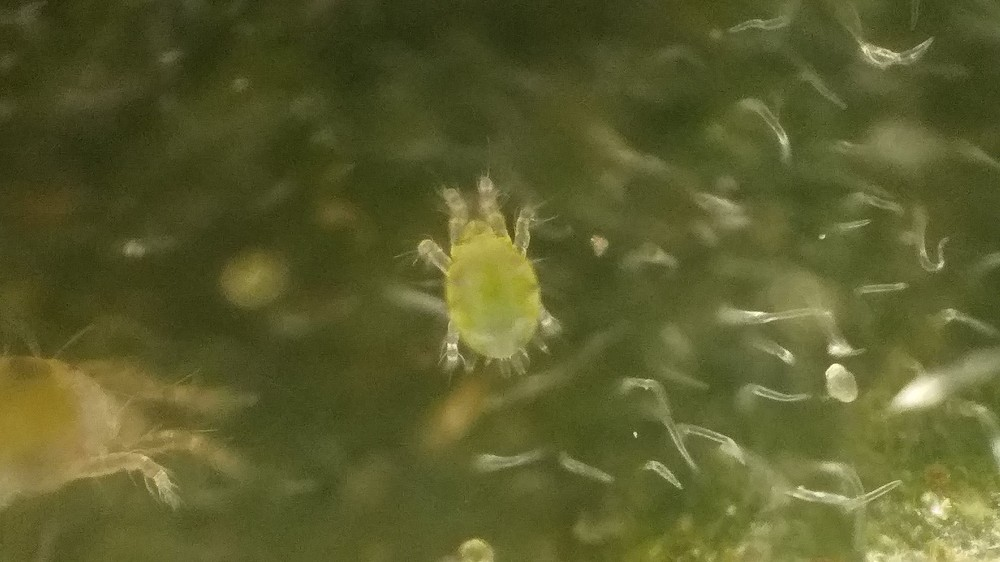Aracnido Rojo: (2, 305, 272, 525), (389, 152, 607, 395)
